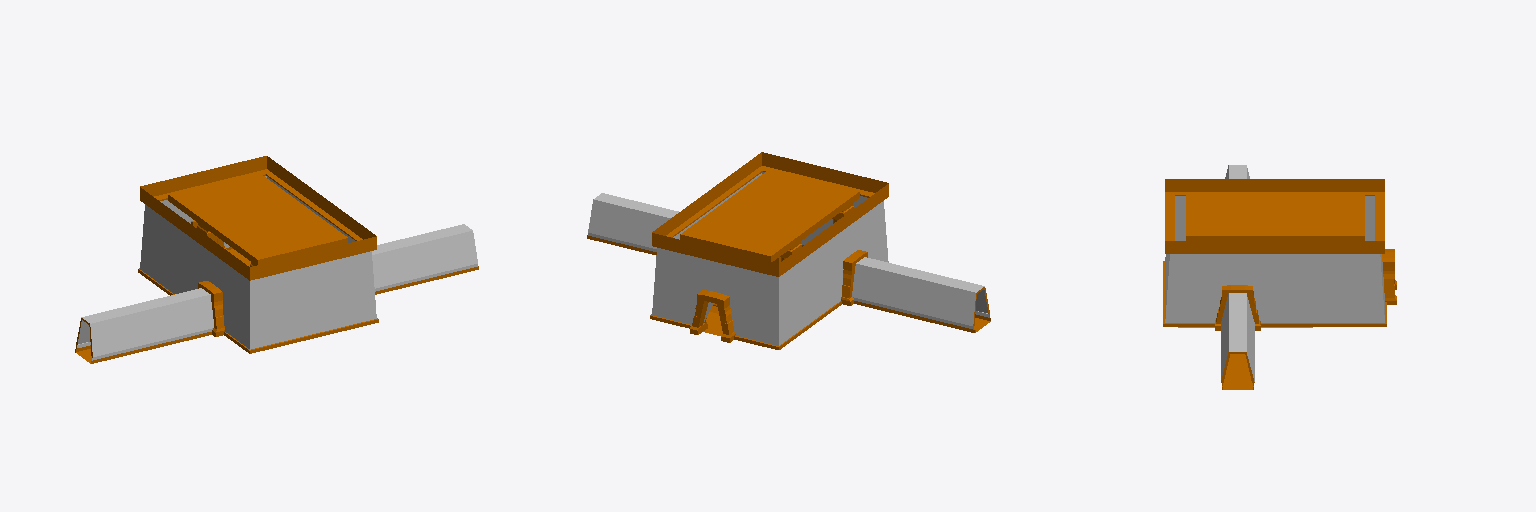
Rendered from StartingRoom.obj.
3 renders of one model, left to right at view 1: azimuth 30°, elevation 25°; view 2: azimuth 150°, elevation 25°; view 3: azimuth 270°, elevation 25°, orthographic.
Parts seen in each view (by area): view 1: StartingRoom; view 2: StartingRoom; view 3: StartingRoom.
Boxes of the visible parts, x1,y1,x2,y2 form: StartingRoom: [75, 156, 478, 363]; StartingRoom: [587, 152, 990, 349]; StartingRoom: [1163, 165, 1396, 389].
Size of the model in its own units: 60 by 13.7 by 31.3.